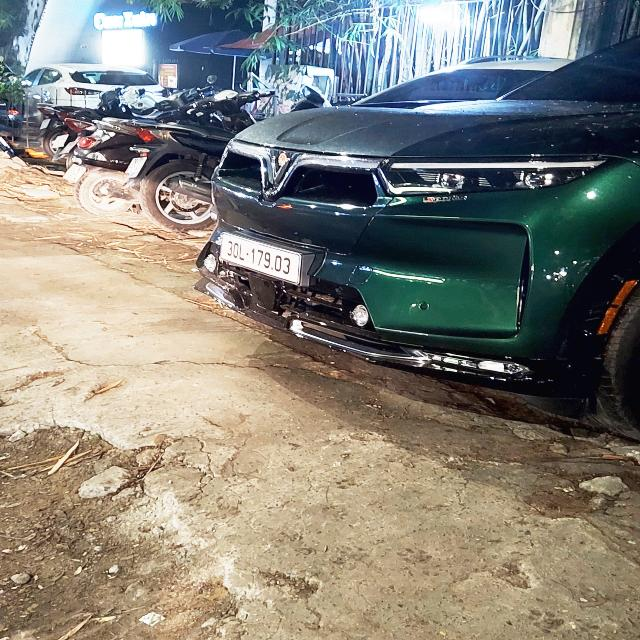license_plate: (219, 232, 304, 287)
